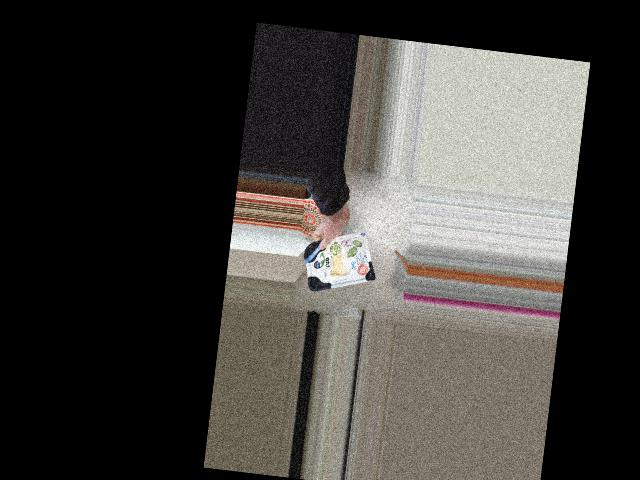cheese: (299, 226, 380, 299)
